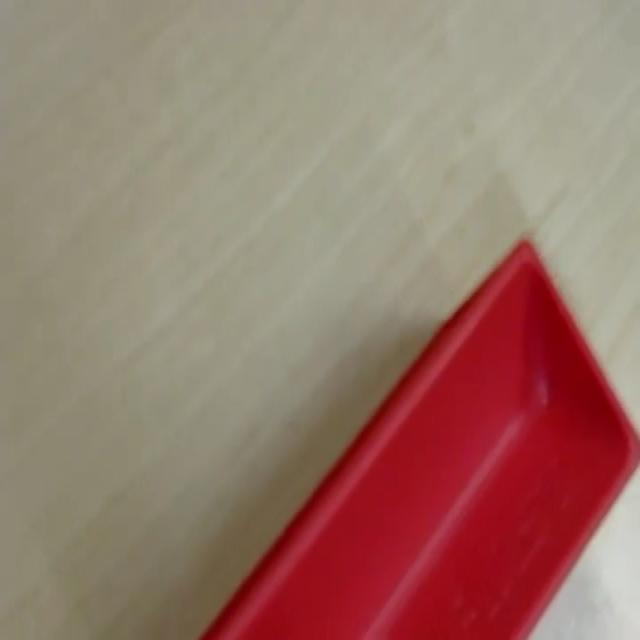red_block: (197, 235, 638, 637)
